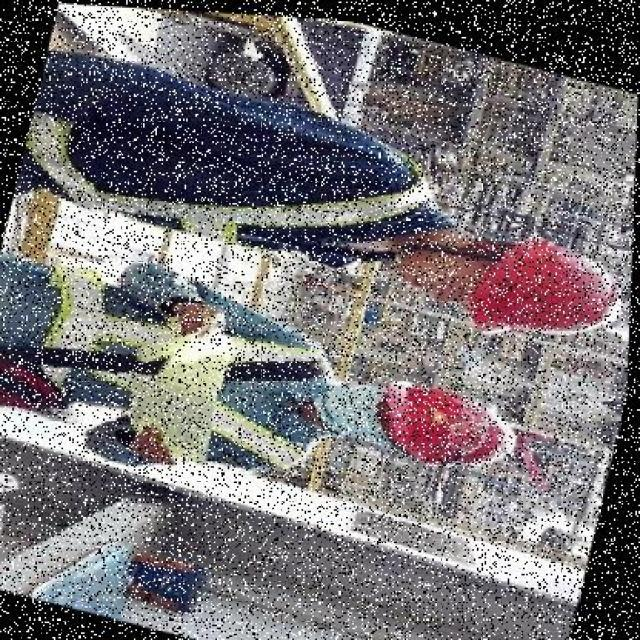helmet: (454, 208, 634, 362), (366, 363, 536, 481)
